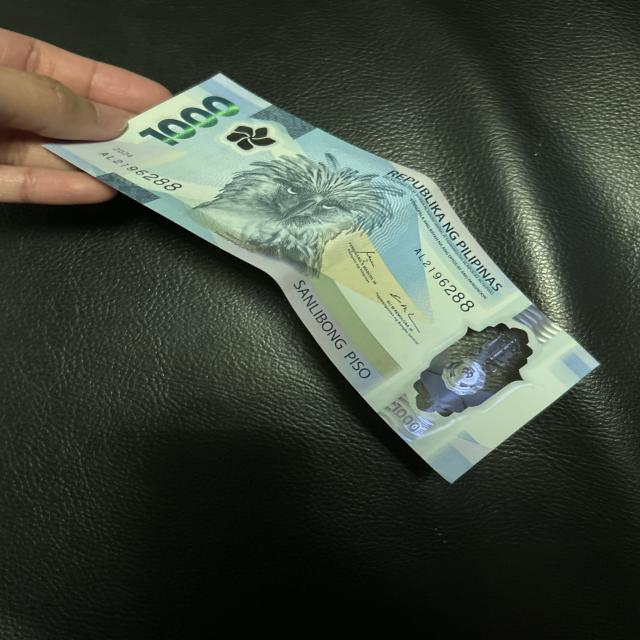clear_window: (412, 327, 532, 418)
eagle: (223, 157, 385, 258)
sampaguita: (227, 121, 274, 151)
